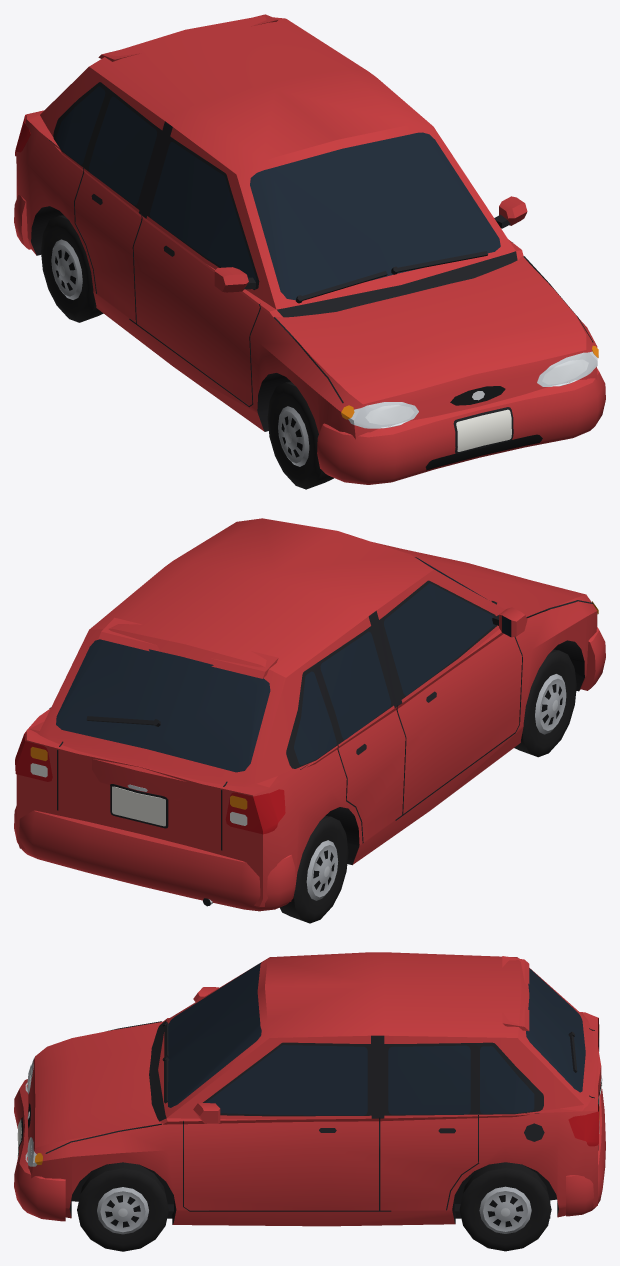
The model's file is traffic_hatch.glb.
3 renders of one model, top to bottom at view 1: azimuth 30°, elevation 25°; view 2: azimuth 150°, elevation 25°; view 3: azimuth 270°, elevation 25°, orthographic. The views are drawn at different scales.
Parts seen in each view (by area): view 1: body, wheel_FR, wheel_RR; view 2: body, wheel_RR, wheel_FR; view 3: body, wheel_FL, wheel_RL.
Boxes of the visible parts, bbox=[...] form: body: bbox=[14, 14, 605, 484]; wheel_FR: bbox=[267, 382, 333, 489]; wheel_RR: bbox=[41, 215, 103, 322]; body: bbox=[14, 518, 605, 911]; wheel_RR: bbox=[280, 816, 348, 923]; wheel_FR: bbox=[514, 649, 576, 757]; body: bbox=[14, 952, 605, 1226]; wheel_FL: bbox=[77, 1162, 168, 1251]; wheel_RL: bbox=[459, 1162, 551, 1251].
Bounding box in the file's own units: 1.84 × 1.5 × 3.71.
